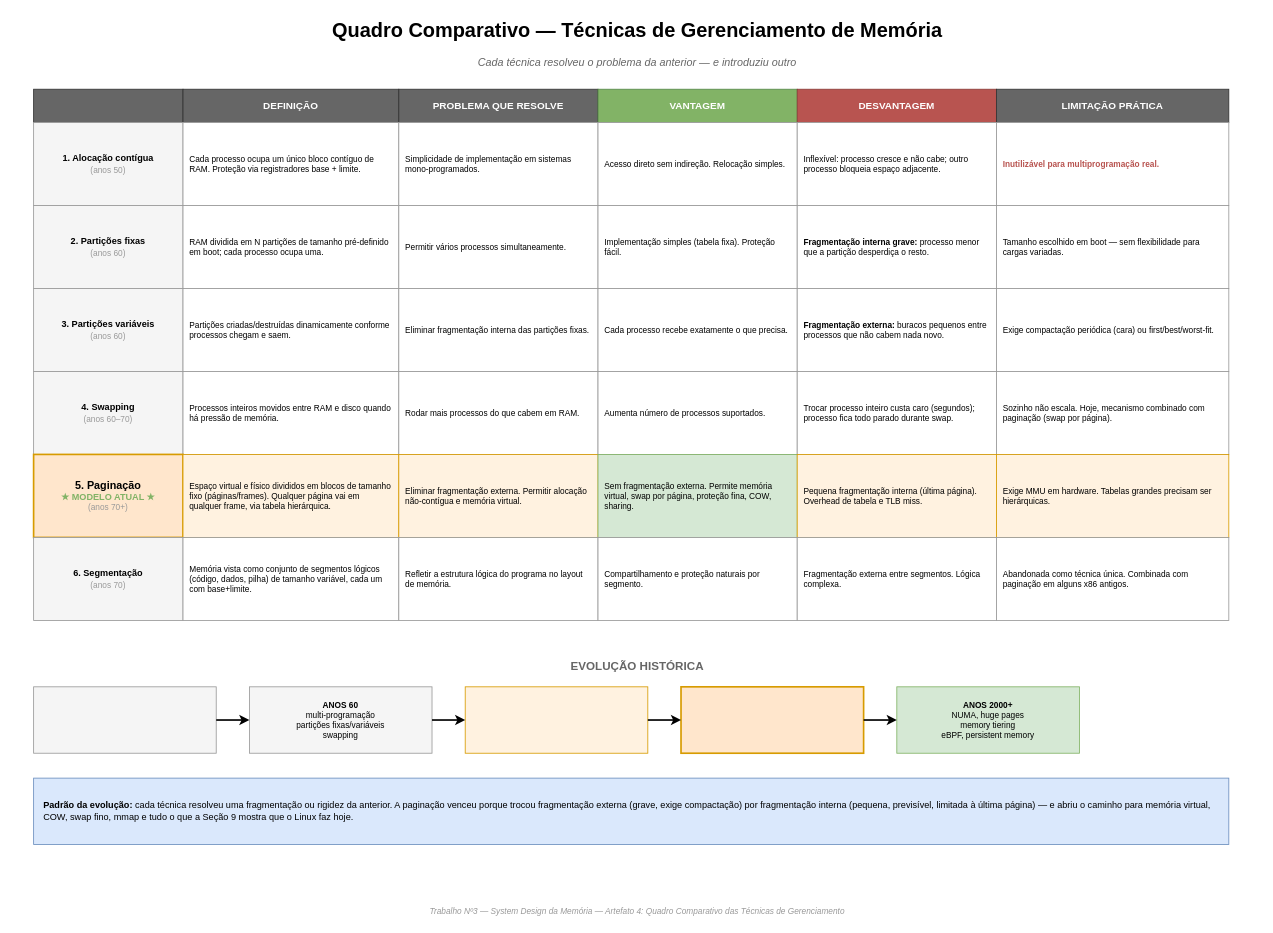
This 1273x933 diagram has some shape labels left out. The shapes that lost their labels are listed below. From the top down, each one's centre as x and y in pixels, then its label:
the point at 108,105: TÉCNICA
the point at 124,719: ANOS 50 mono-programação alocação contígua
the point at 556,719: ANOS 70 memória virtual segmentação + paginação MMU em hardware
the point at 772,720: ANOS 80+ paginação sob demanda TLB, COW modelo padrão hoje
